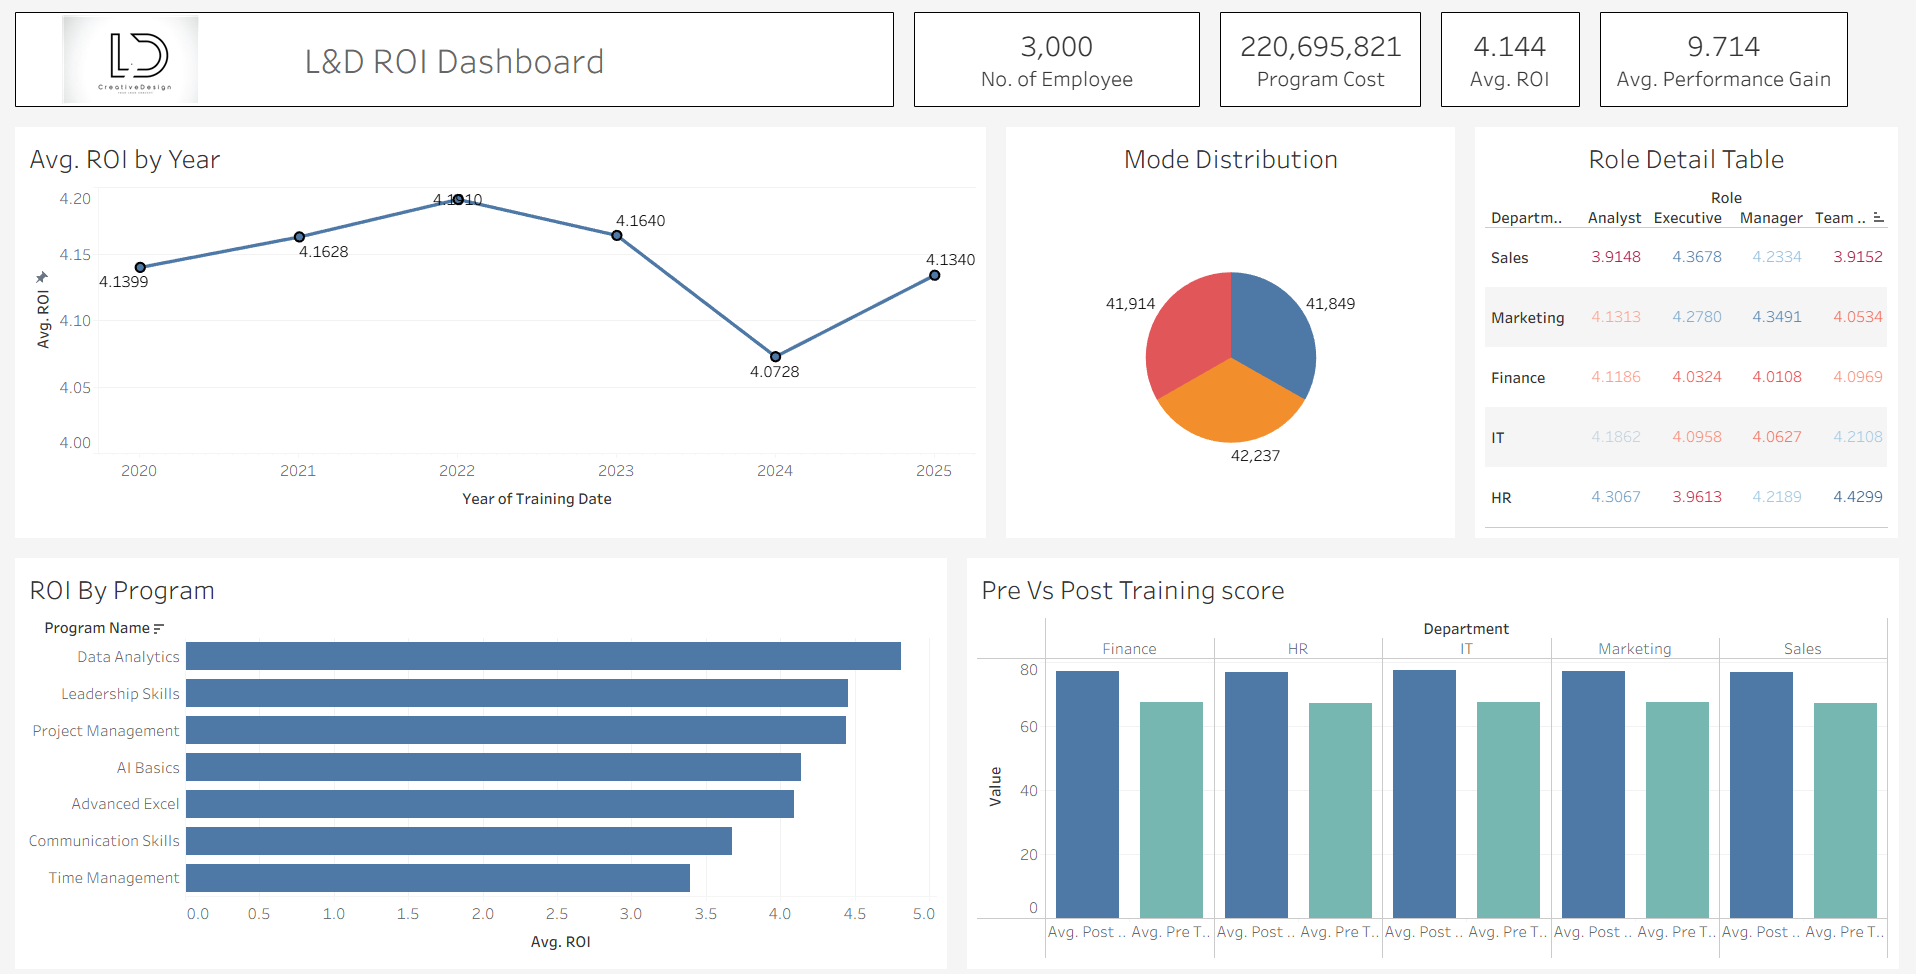

The page's visual inventory and layout, read from the dashboard file:
{"tool":"tableau","page":{"name":"Dashboard 2","canvas":[1000,1000],"units":"permille","ordinal":0},"visuals":[{"type":"text","box":[4.8,10,467.6,115.7]},{"type":"worksheet","title":"No.emp","mark":"Automatic","box":[472.4,10,159.3,115.7]},{"type":"worksheet","title":"programcost","mark":"Automatic","box":[631.7,10,133.4,115.7]},{"type":"worksheet","title":"AVg.roi","mark":"Automatic","box":[765.1,10,96,115.7]},{"type":"worksheet","title":"Sheet 17","mark":"Automatic","box":[861,10,134.2,115.7]},{"type":"image","param":"C:/Users/Shivam Singh/Downloads/lg.png","box":[7.2,21.2,124.9,89.9]},{"type":"worksheet","title":"Sheet 1","mark":"Automatic","rows":["ROI"],"cols":["TrainingDate"],"box":[4.8,125.7,515.2,432.1]},{"type":"worksheet","title":"Sheet 6","mark":"Pie","box":[520,125.7,244.5,432.1]},{"type":"worksheet","title":"Sheet 12","mark":"Automatic","rows":["Department"],"cols":["Role"],"box":[764.5,125.7,230.7,432.1]},{"type":"worksheet","title":"RoiBypProgram","mark":"Automatic","rows":["ProgramName"],"cols":["ROI"],"box":[4.8,557.8,495.2,432.2]},{"type":"worksheet","title":"Sheet 8","mark":"Automatic","cols":["Department"],"box":[500,557.8,495.2,432.2]}]}

Visuals, with their boxes on the dashboard's canvas, which has no fixed pixel size, in thousandths of its width and height (x1, y1, x2, y2). These are canvas units, not pixel positions in the 1916x974 screenshot, which may show the page scaled, cropped or inside an application window:
text: BBox(5, 10, 472, 126)
"No.emp" worksheet: BBox(472, 10, 632, 126)
"programcost" worksheet: BBox(632, 10, 765, 126)
"AVg.roi" worksheet: BBox(765, 10, 861, 126)
"Sheet 17" worksheet: BBox(861, 10, 995, 126)
image: BBox(7, 21, 132, 111)
"Sheet 1" worksheet: BBox(5, 126, 520, 558)
"Sheet 6" worksheet (Pie marks): BBox(520, 126, 764, 558)
"Sheet 12" worksheet: BBox(764, 126, 995, 558)
"RoiBypProgram" worksheet: BBox(5, 558, 500, 990)
"Sheet 8" worksheet: BBox(500, 558, 995, 990)
